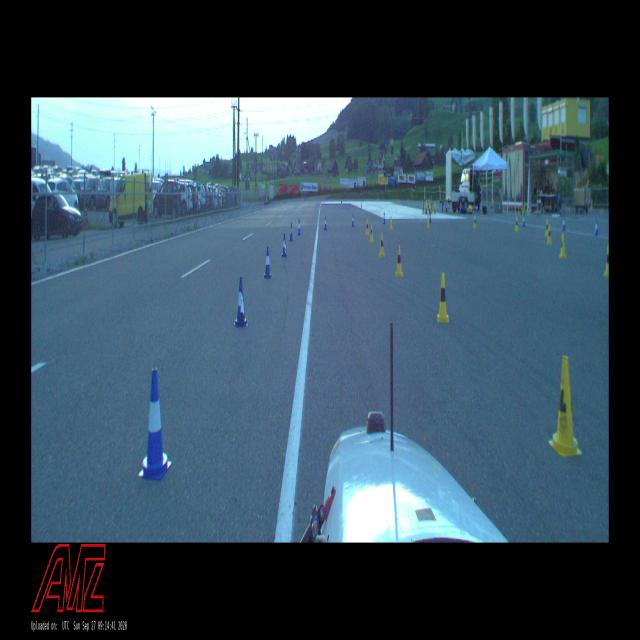blue_cone: (138, 367, 172, 481), (234, 277, 248, 328), (264, 246, 272, 279), (282, 234, 288, 258), (289, 222, 294, 242), (594, 220, 598, 236), (562, 216, 566, 231), (522, 214, 526, 227), (298, 219, 301, 235), (324, 217, 327, 230), (383, 212, 386, 224), (352, 213, 354, 227)
yellow_cone: (548, 356, 582, 456), (437, 272, 449, 322), (395, 245, 403, 277), (604, 244, 609, 276), (379, 233, 385, 257), (560, 235, 566, 258), (547, 225, 552, 245), (369, 224, 374, 243), (366, 219, 370, 235), (515, 216, 519, 232), (473, 215, 477, 230), (389, 216, 393, 230), (545, 219, 548, 236), (426, 214, 429, 228)
